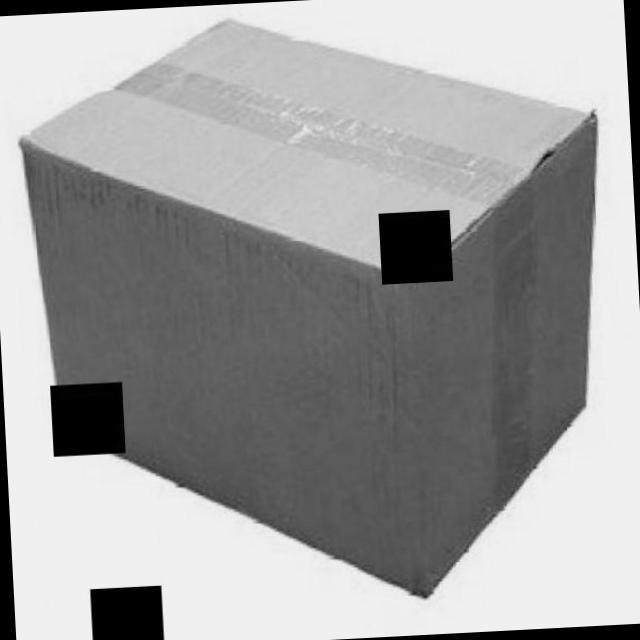box: (5, 0, 626, 628)
